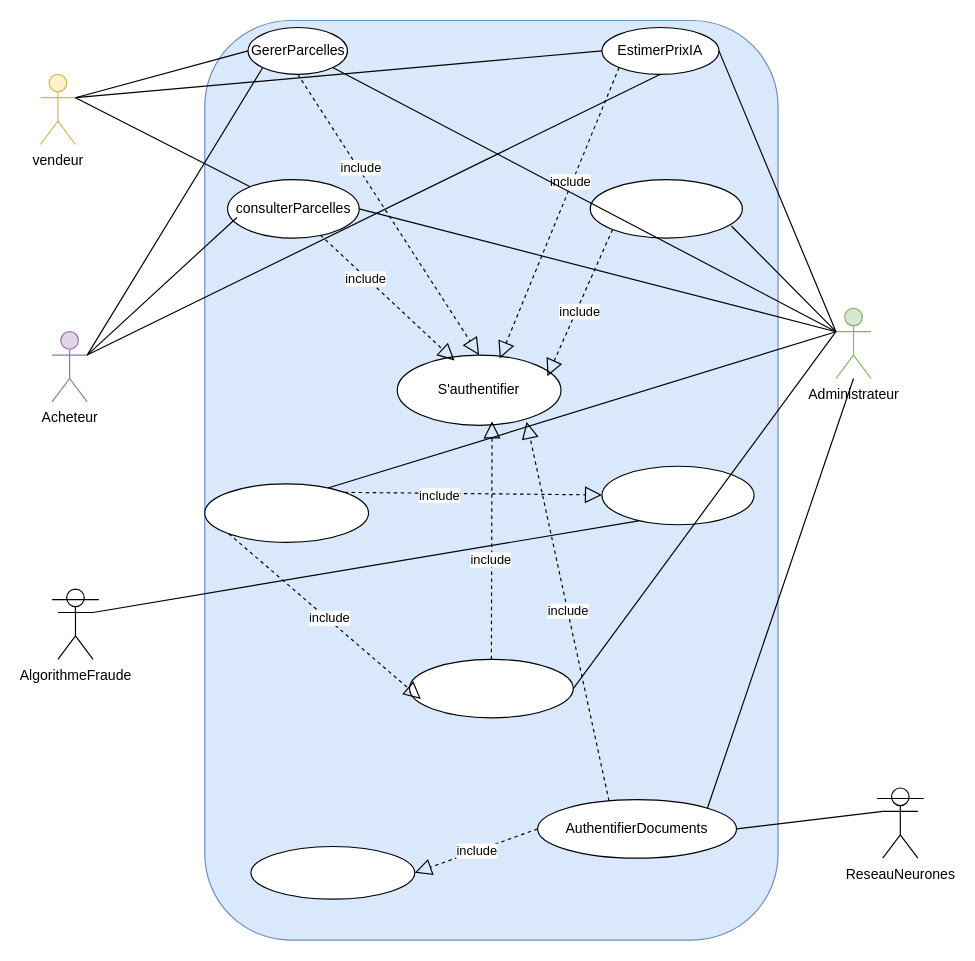
This 975x961 diagram has some shape labels left out. Each missing label, with the centre of its shape:
"consulterRegistre" belongs at (332,872).
"détecterFraude" belongs at (677,495).
"EnregisterSmartContrat" belongs at (490,688).
"GérerTransactions" belongs at (665,208).
"ValiderTansaction" belongs at (286,512).
